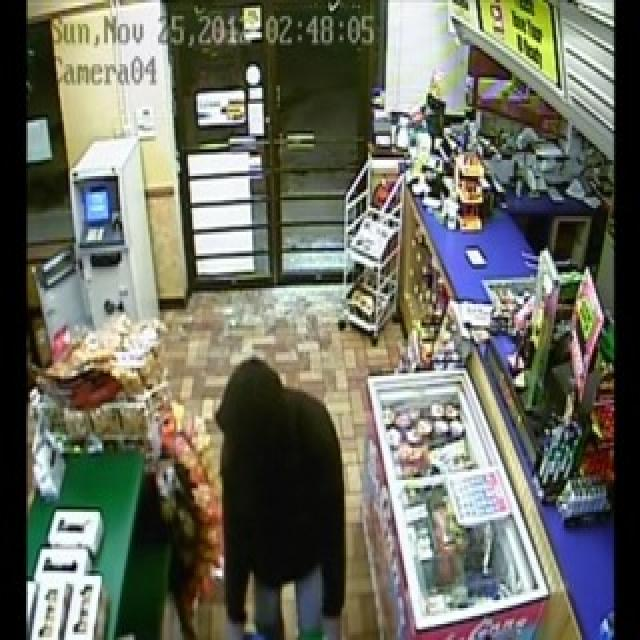thief: (225, 344, 352, 634)
